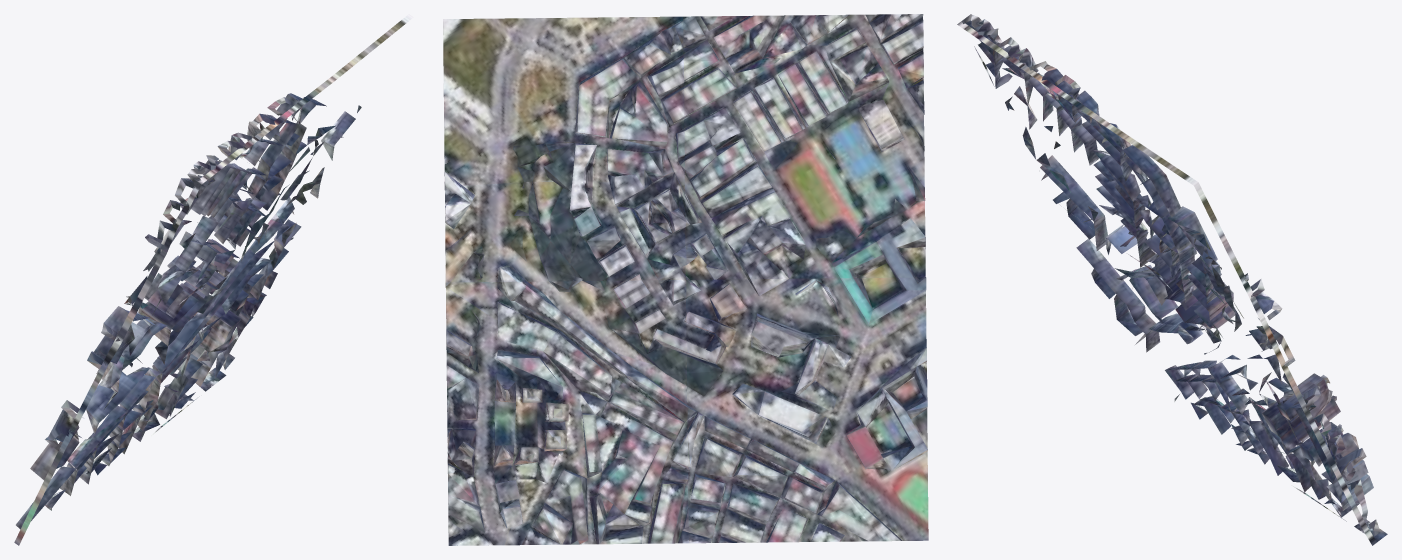
3 renders of one model, left to right at view 1: azimuth 30°, elevation 25°; view 2: azimuth 150°, elevation 25°; view 3: azimuth 270°, elevation 25°, orthographic. The views are drawn at different scales.
Bounding box in the file's own units: 610 × 563 × 530.
1 material, 1 textured.
